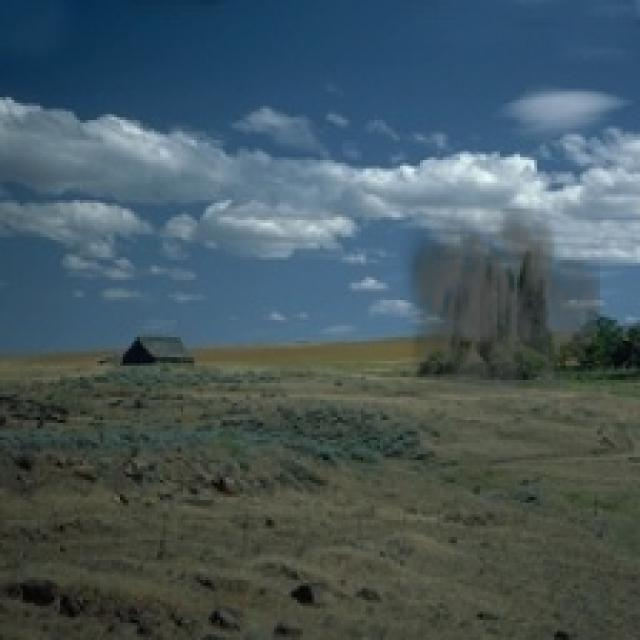smoke: (397, 209, 600, 437)
